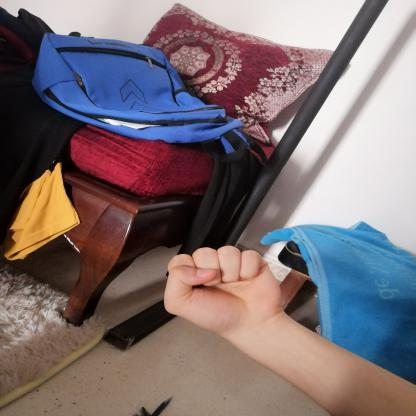SAD: (146, 235, 295, 338)
